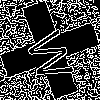W: (25, 25, 84, 85)
